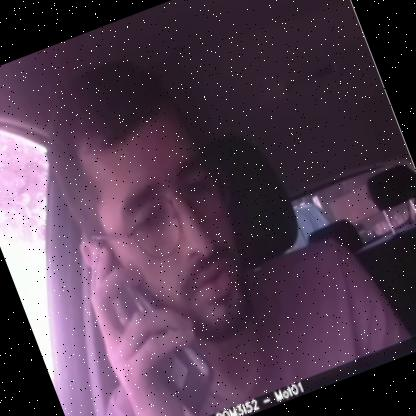phone: (90, 239, 229, 415)
